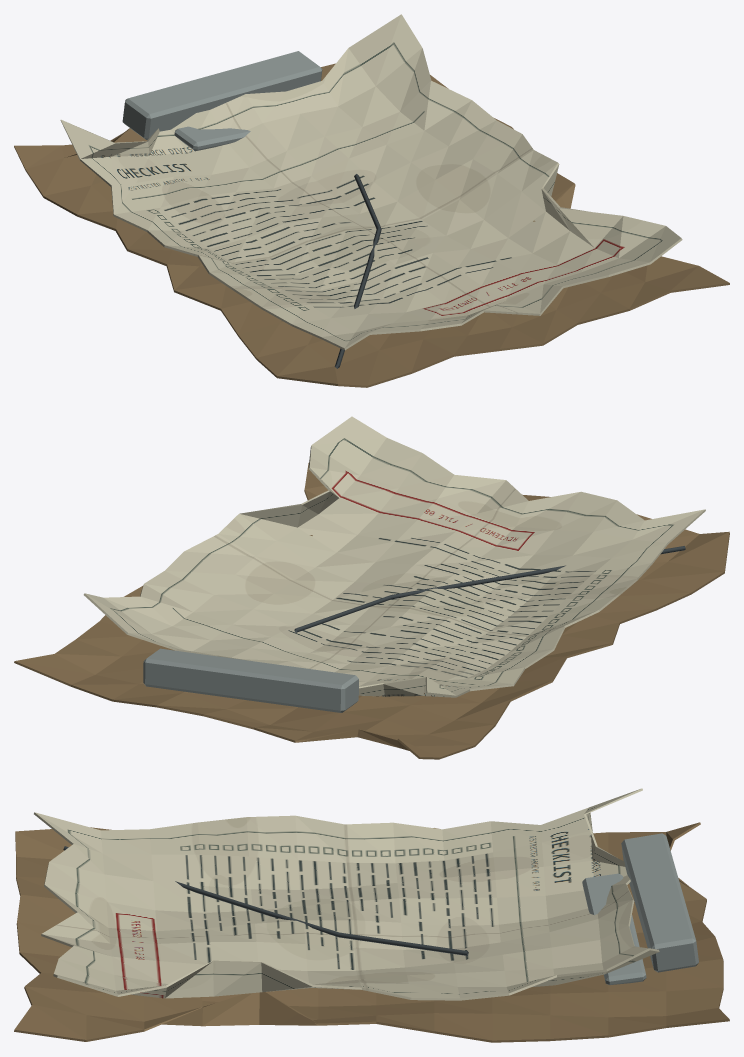
Rendered from DS_Clue_Clipboard_Damaged_V01.fbx.
3 renders of one model, top to bottom at view 1: azimuth 30°, elevation 25°; view 2: azimuth 150°, elevation 25°; view 3: azimuth 270°, elevation 25°, orthographic. The views are drawn at different scales.
Parts seen in each view (by area): view 1: DS_Clue_Clipboard_Damaged_V01; view 2: DS_Clue_Clipboard_Damaged_V01; view 3: DS_Clue_Clipboard_Damaged_V01.
Boxes of the visible parts, box(x1,y1,x2,y2) form: DS_Clue_Clipboard_Damaged_V01: box(14, 14, 729, 387); DS_Clue_Clipboard_Damaged_V01: box(14, 416, 729, 759); DS_Clue_Clipboard_Damaged_V01: box(14, 788, 729, 1042).
Bounding box in the file's own units: 57.36 × 11.55 × 78.18.
4 materials, 1 textured.
